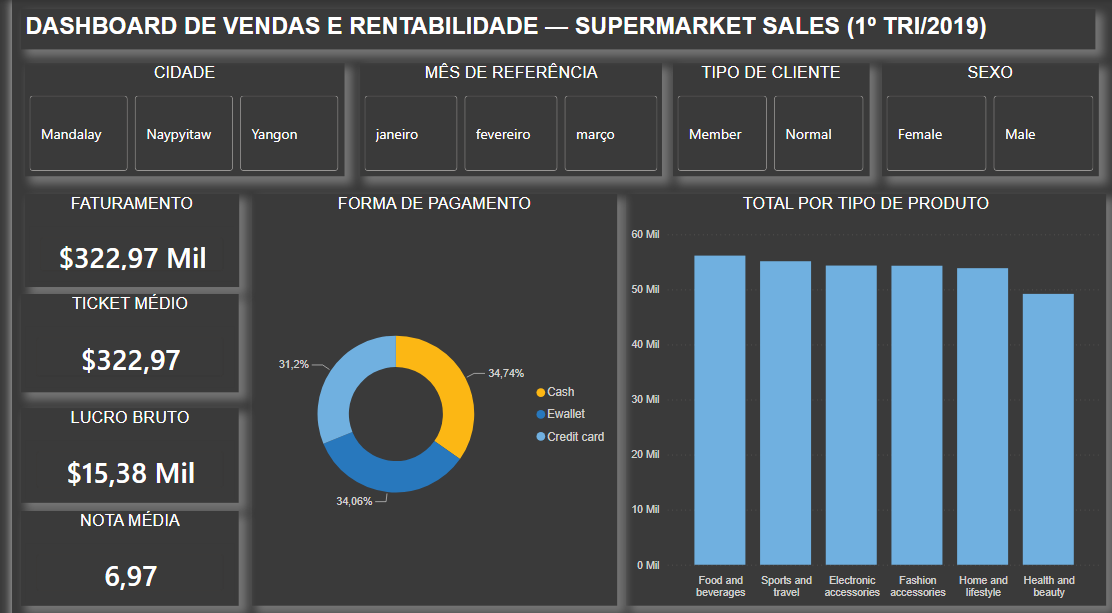

The page's visual inventory and layout, read from the dashboard file:
{"tool":"powerbi","page":{"name":"Página 1","canvas":[1280,720],"ordinal":0},"visuals":[{"type":"clusteredColumnChart","title":"TOTAL POR TIPO DE PRODUTO","fields":{"Category":["SuperMarket Analysis.Product line"],"Y":["Sum(SuperMarket Analysis.Sales)"]},"box":[699.5,221,546.8,469.4],"z":0},{"type":"advancedSlicerVisual","title":"MÊS DE REFERÊNCIA","fields":{"Values":["SuperMarket Analysis.Date.Variation.Hierarquia de datas.Mês"]},"box":[396,72.1,344.4,128.5],"z":1000},{"type":"advancedSlicerVisual","title":"CIDADE","fields":{"Values":["SuperMarket Analysis.City"]},"box":[14.3,71.7,363.7,128.5],"z":2000},{"type":"advancedSlicerVisual","title":"TIPO DE CLIENTE","fields":{"Values":["SuperMarket Analysis.Customer type"]},"box":[753.2,72.1,223.6,128.5],"z":3000},{"type":"advancedSlicerVisual","title":"SEXO","fields":{"Values":["SuperMarket Analysis.Gender"]},"box":[991,72.1,246.7,128.5],"z":4000},{"type":"donutChart","title":"FORMA DE PAGAMENTO","fields":{"Category":["SuperMarket Analysis.Payment"],"Y":["Sum(SuperMarket Analysis.Sales)"]},"box":[273.4,221,415.8,469.4],"z":5000},{"type":"cardVisual","title":"FATURAMENTO","fields":{"Data":["SuperMarket Analysis.Faturamento"]},"box":[14.8,221,243.8,105.9],"z":6000},{"type":"cardVisual","title":"LUCRO BRUTO","fields":{"Data":["Sum(SuperMarket Analysis.gross income)"]},"box":[10.3,464.8,248.4,108.2],"z":7000},{"type":"cardVisual","title":"NOTA MÉDIA","fields":{"Data":["Avg(SuperMarket Analysis.Rating)"]},"box":[10.3,582.2,248.4,108.2],"z":8000},{"type":"textbox","box":[10.3,10.3,1223.5,45.6],"z":9000},{"type":"cardVisual","title":"TICKET MÉDIO","fields":{"Data":["Avg(SuperMarket Analysis.Sales)"]},"box":[10.3,334.9,248.4,111.6],"z":10000}]}

Visuals, with their boxes in screenshot pixels (x1, y1, x2, y2), scaled from the page's 1280x720 canvas onto the 1112x613 screenshot:
"TOTAL POR TIPO DE PRODUTO" clusteredColumnChart: select_region(608, 188, 1083, 588)
"MÊS DE REFERÊNCIA" advancedSlicerVisual: select_region(344, 61, 643, 171)
"CIDADE" advancedSlicerVisual: select_region(12, 61, 328, 170)
"TIPO DE CLIENTE" advancedSlicerVisual: select_region(654, 61, 849, 171)
"SEXO" advancedSlicerVisual: select_region(861, 61, 1075, 171)
"FORMA DE PAGAMENTO" donutChart: select_region(238, 188, 599, 588)
"FATURAMENTO" cardVisual: select_region(13, 188, 225, 278)
"LUCRO BRUTO" cardVisual: select_region(9, 396, 225, 488)
"NOTA MÉDIA" cardVisual: select_region(9, 496, 225, 588)
textbox: select_region(9, 9, 1072, 48)
"TICKET MÉDIO" cardVisual: select_region(9, 285, 225, 380)
